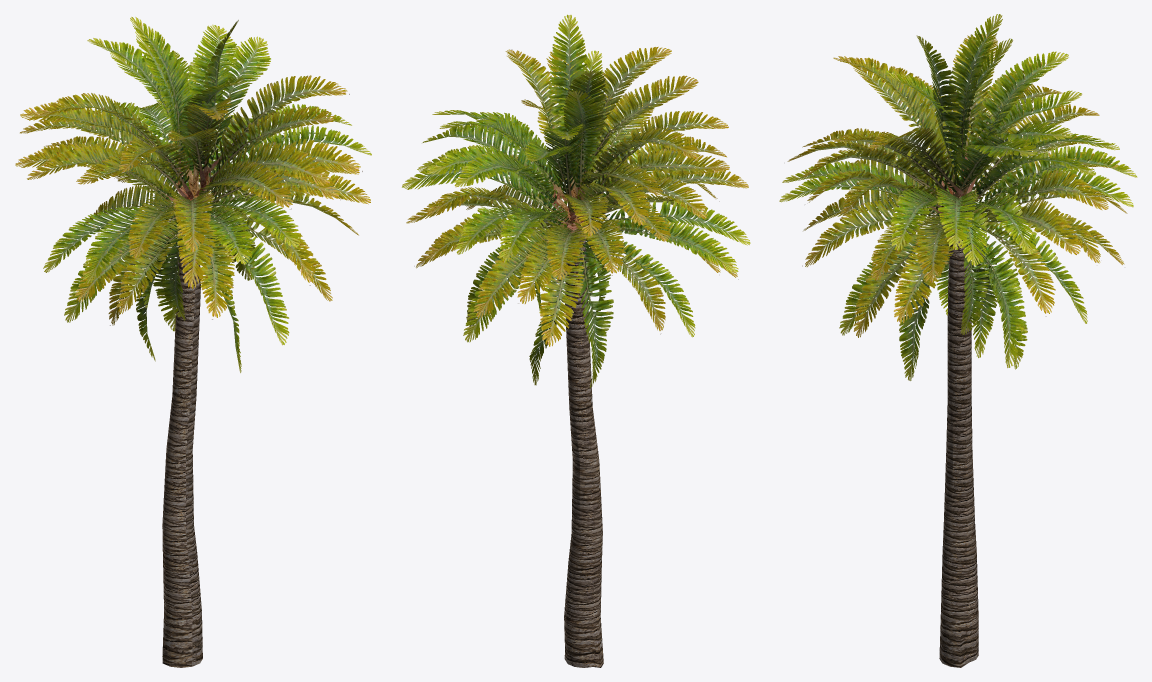
Rendered from palmeira.glb.
3 renders of one model, left to right at view 1: azimuth 30°, elevation 25°; view 2: azimuth 150°, elevation 25°; view 3: azimuth 270°, elevation 25°, orthographic. The views are drawn at different scales.
Visible parts, largest first — view 1: palmeira; view 2: palmeira; view 3: palmeira.
Part boxes in pixels (x1,y1,x2,y2): palmeira: (15, 17, 371, 667); palmeira: (402, 14, 750, 667); palmeira: (779, 14, 1137, 667).
Bounding box in the file's own units: 5.15 × 10 × 5.07.
Materials: 1 (1 with a texture image).
